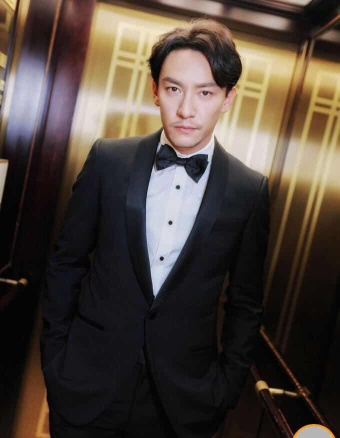male: (148, 21, 245, 152)
